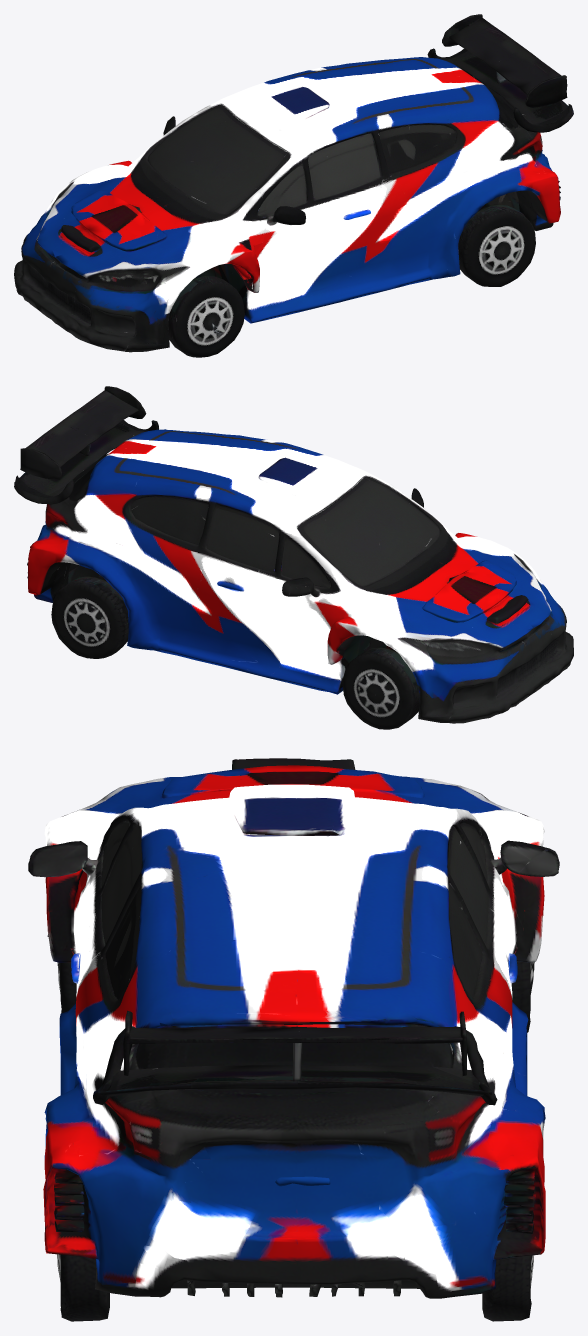
Rendered from rally-car.glb.
3 renders of one model, top to bottom at view 1: azimuth 30°, elevation 25°; view 2: azimuth 150°, elevation 25°; view 3: azimuth 270°, elevation 25°, orthographic. The views are drawn at different scales.
Visible parts, largest first — view 1: Mesh_0; view 2: Mesh_0; view 3: Mesh_0.
Boxes of the visible parts, x1,y1,x2,y2 form: Mesh_0: (14, 14, 573, 357); Mesh_0: (14, 386, 573, 729); Mesh_0: (28, 758, 559, 1321).
Bounding box in the file's own units: 4.13 × 1.5 × 1.99.
1 material, 1 textured.
